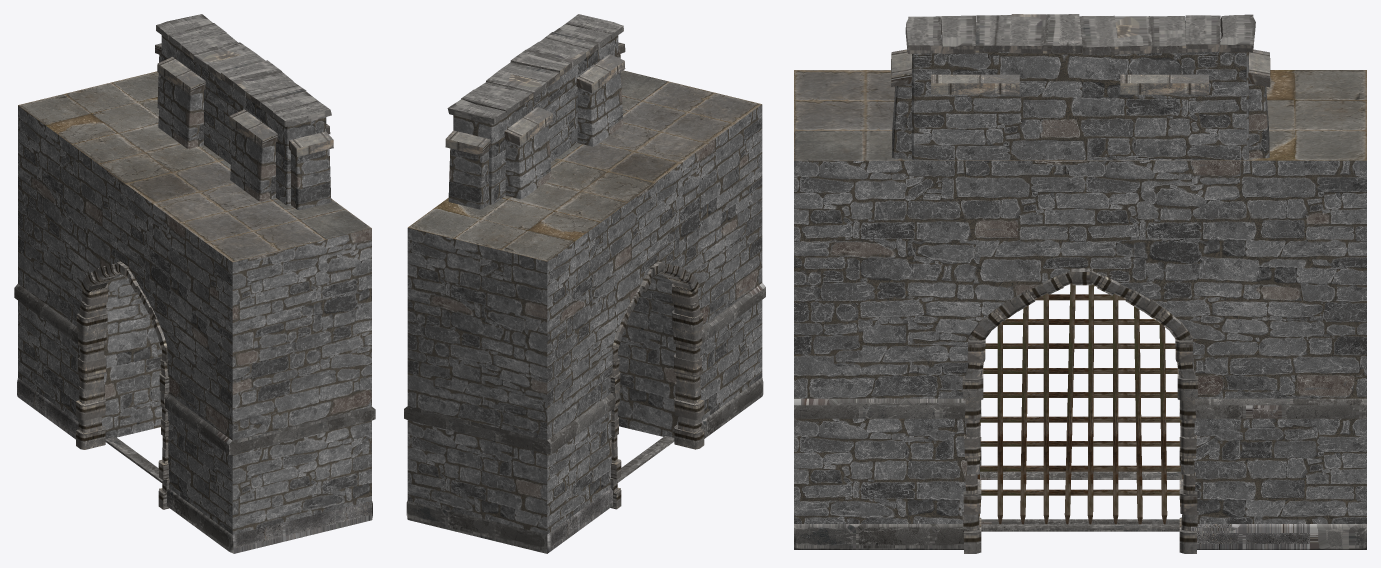
Rendered from MC_Castle_Gates_C.fbx.
3 renders of one model, left to right at view 1: azimuth 30°, elevation 25°; view 2: azimuth 150°, elevation 25°; view 3: azimuth 270°, elevation 25°, orthographic. The views are drawn at different scales.
Visible parts, largest first — view 1: MC_Castle_Gates_C_LOD0; view 2: MC_Castle_Gates_C_LOD0; view 3: MC_Castle_Gates_C_LOD0, MC_Castle_Gates_02.
Boxes of the visible parts, x1,y1,x2,y2 form: MC_Castle_Gates_C_LOD0: [14, 14, 375, 553]; MC_Castle_Gates_C_LOD0: [404, 14, 765, 553]; MC_Castle_Gates_C_LOD0: [794, 14, 1366, 553]; MC_Castle_Gates_02: [977, 283, 1183, 524].
Size of what is drawn, in the model's own units: 333 by 785 by 800.
